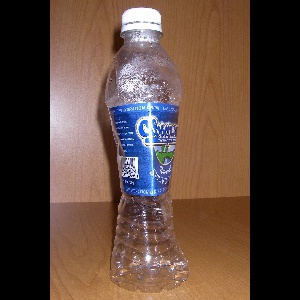emptybottle: (104, 8, 188, 292)
